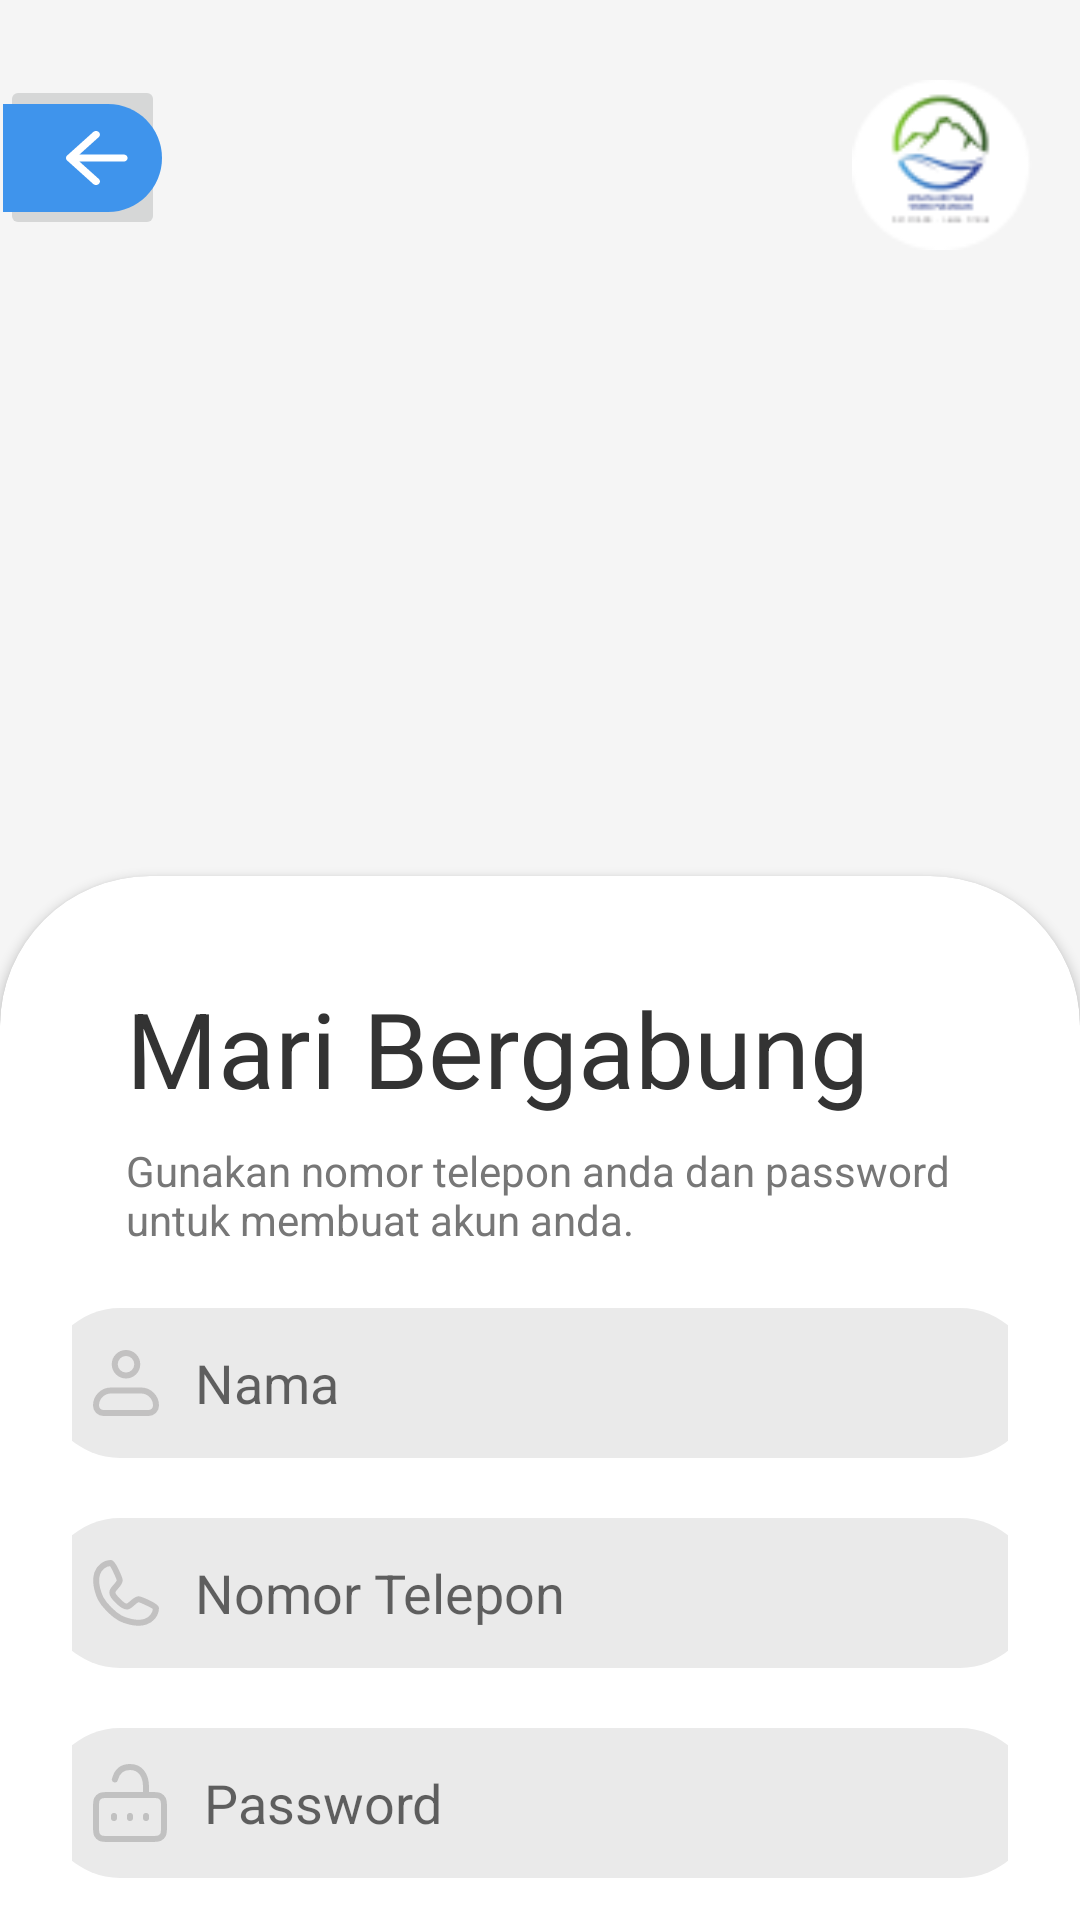

Screen size 1080×1920. Icon name, then its box in pixels as (x1, y1, x2, y2):
Tombol Kembali: (3, 93, 162, 222)
